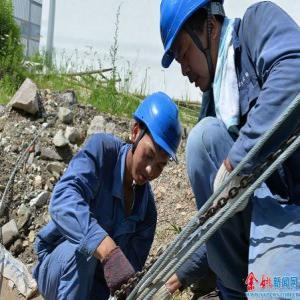blue: (159, 2, 225, 92), (126, 90, 186, 187)
